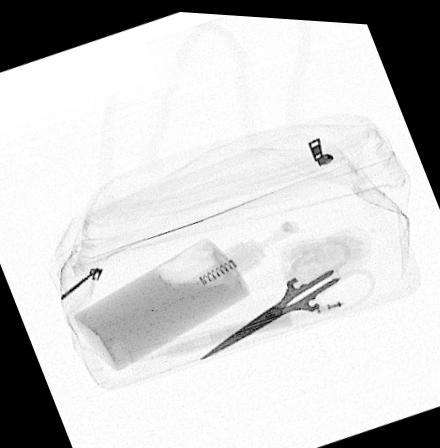Scissors: (193, 230, 377, 360)
